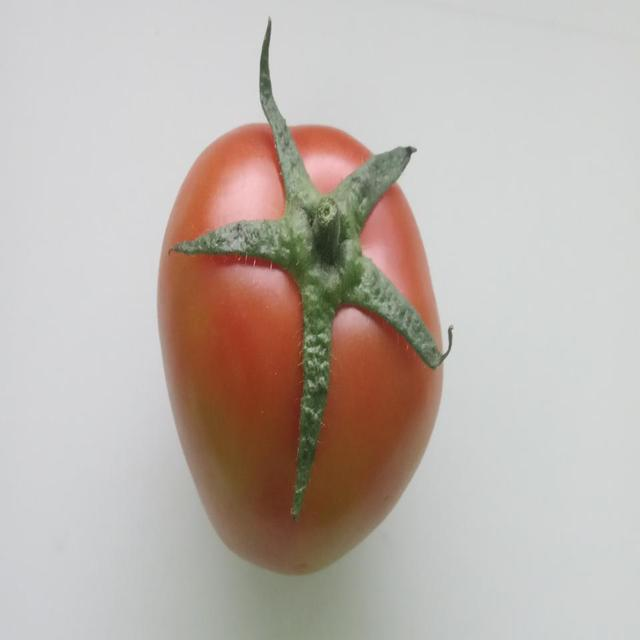Healthy Fruit: (101, 73, 303, 391)
